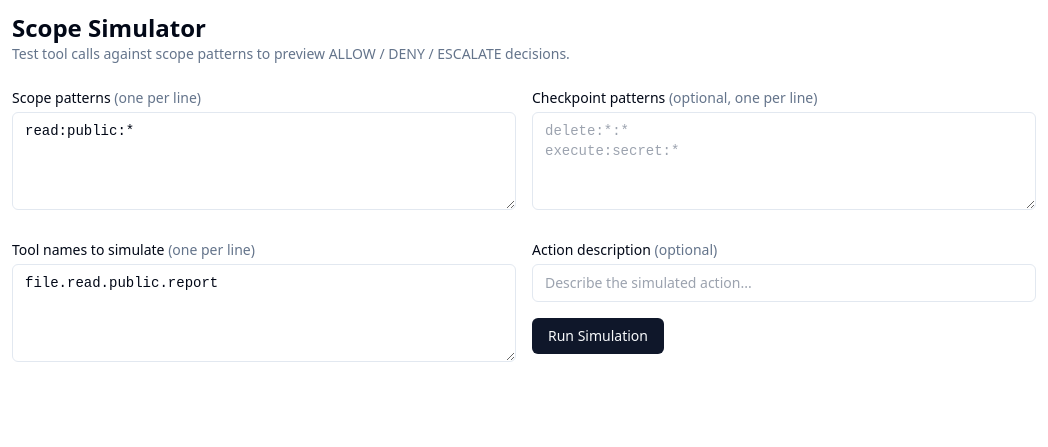
it: ScopeSimulator › shows error when scope patterns are empty
Clear the default scope input
Clear the text box below "Checkpoint patterns" at (264, 161), box [12, 112, 516, 210]
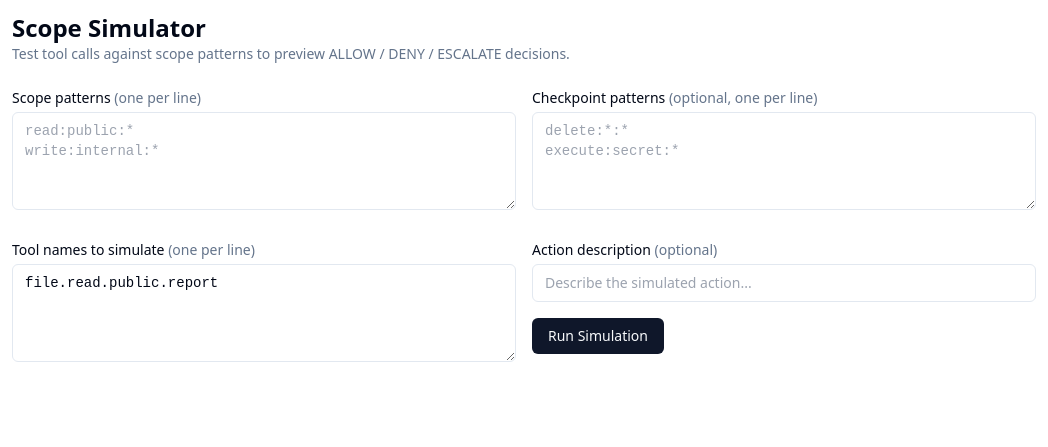
Click the button "Run Simulation" at (598, 336), box [532, 318, 664, 354]
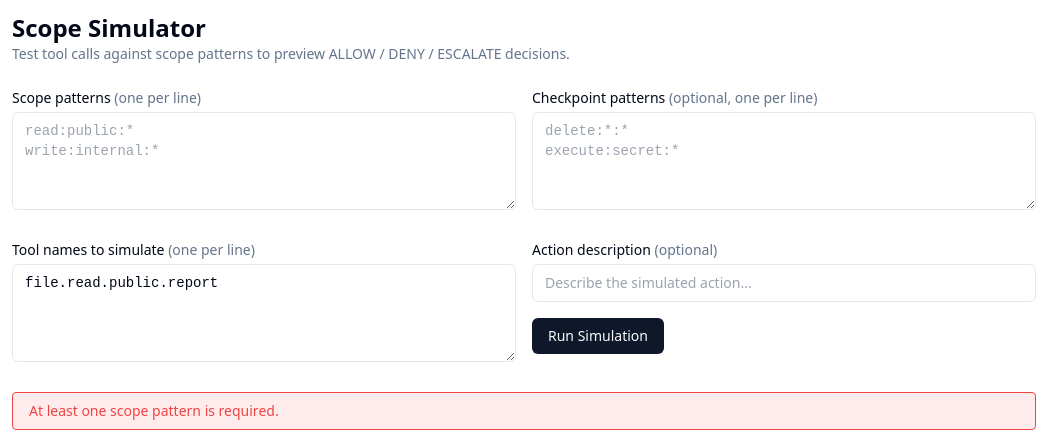
Result: the text "At least one scope pattern is required." is shown at [12, 392, 1036, 430]
